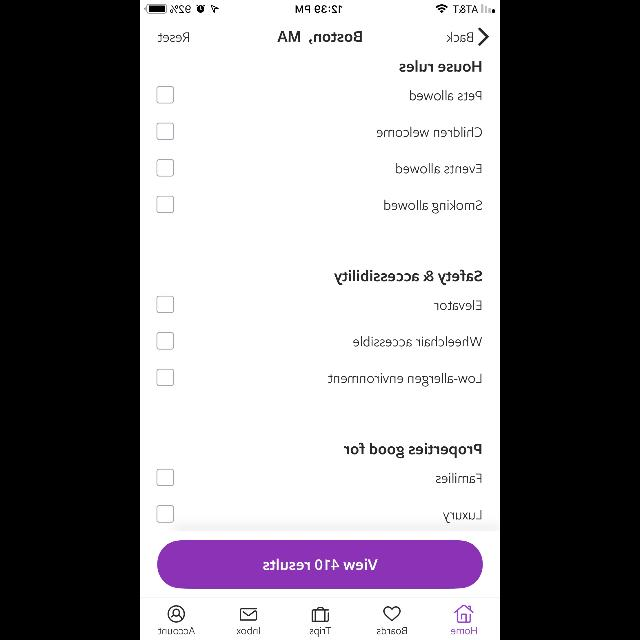checkbox: (156, 86, 174, 104), (156, 122, 174, 140), (156, 196, 174, 214), (156, 296, 174, 314), (156, 332, 174, 350), (156, 369, 174, 387), (156, 505, 174, 523), (156, 160, 174, 177), (156, 469, 174, 486)
icon: (453, 605, 472, 623), (168, 606, 185, 622), (384, 606, 401, 622), (312, 606, 328, 622), (240, 608, 256, 620), (478, 28, 488, 46)
text: (344, 442, 481, 458), (328, 373, 480, 387), (334, 270, 482, 284), (384, 200, 482, 214), (354, 336, 482, 346), (376, 126, 482, 138), (277, 32, 361, 44), (399, 60, 481, 72), (396, 163, 482, 174), (411, 90, 482, 100), (443, 511, 481, 524), (434, 300, 482, 310), (436, 473, 482, 483), (158, 32, 190, 42), (447, 32, 473, 42), (377, 626, 407, 634), (158, 628, 196, 634), (310, 627, 330, 637), (237, 626, 260, 634), (451, 628, 477, 634)
textbutton: (158, 540, 482, 588)
uppertaskbar: (140, 0, 500, 14)
